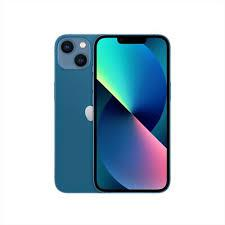Smartphone: (97, 37, 163, 194), (55, 36, 111, 189)
